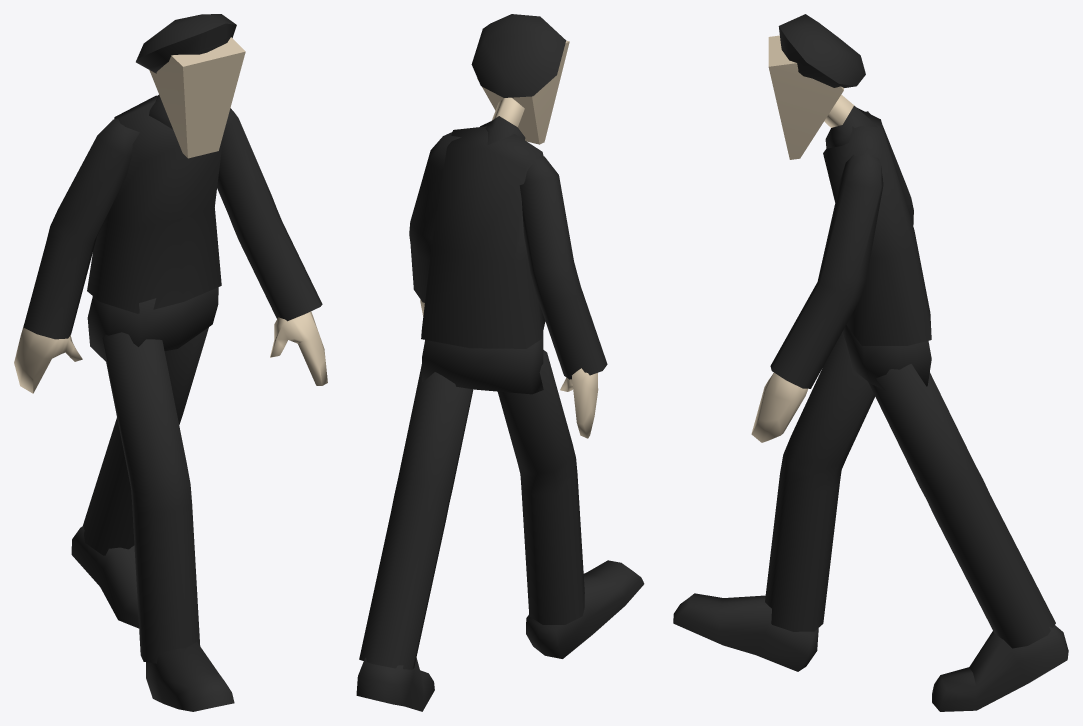
File: mesh_CampPrisoner_e.fbx
The picture shows the model from 3 angles, left to right: view 1: azimuth 30°, elevation 25°; view 2: azimuth 150°, elevation 25°; view 3: azimuth 270°, elevation 25°; orthographic projection. The views are drawn at different scales.
Visible parts, largest first — view 1: PrisonerE; view 2: PrisonerE; view 3: PrisonerE.
Boxes of the visible parts, x1,y1,x2,y2 form: PrisonerE: [14, 14, 327, 711]; PrisonerE: [356, 14, 644, 711]; PrisonerE: [673, 14, 1068, 711].
Size of the model in its own units: 36.84 by 96.59 by 52.61.
